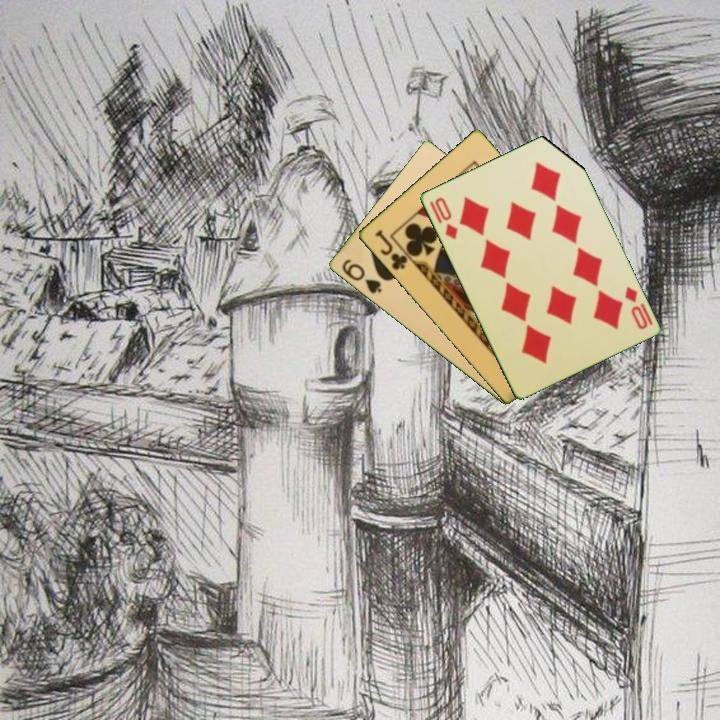10d: (621, 282, 656, 332), (431, 193, 461, 242)
6s: (338, 256, 384, 297)
Jc: (371, 226, 410, 273)
